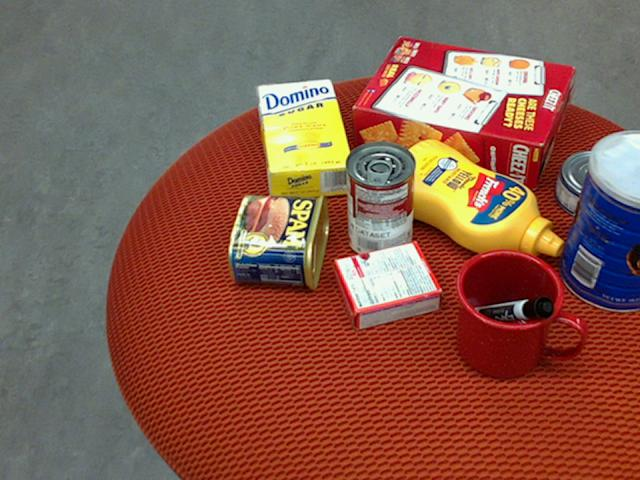cracker_box: (352, 35, 573, 187)
gelatin_box: (329, 243, 440, 330)
large_marker: (469, 295, 553, 326)
master_chef_can: (558, 129, 639, 313)
mug: (453, 248, 583, 379)
mustard_bottle: (380, 139, 563, 258)
potted_meat_can: (226, 193, 327, 289)
sugar_box: (255, 77, 354, 202)
tomato_soup_can: (343, 138, 414, 259)
tuna_fish_can: (554, 149, 639, 222)
